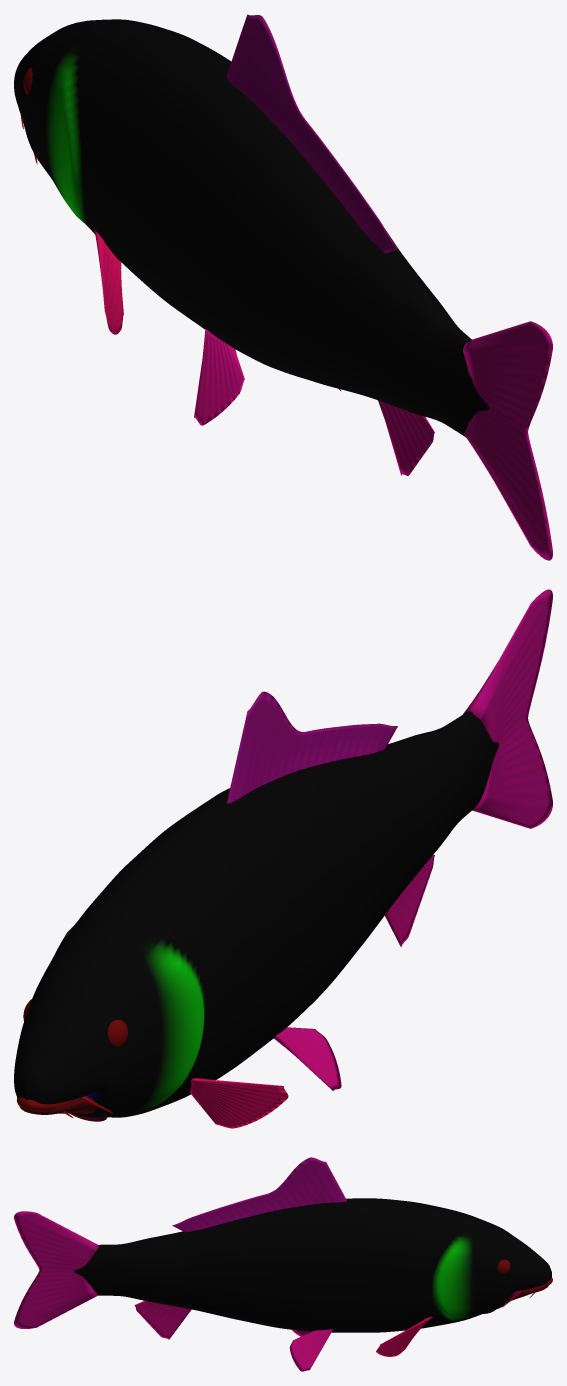
The model's file is carp.glb.
3 renders of one model, top to bottom at view 1: azimuth 30°, elevation 25°; view 2: azimuth 150°, elevation 25°; view 3: azimuth 270°, elevation 25°, orthographic. The views are drawn at different scales.
Visible parts, largest first — view 1: carp; view 2: carp; view 3: carp.
Boxes of the visible parts, box(x1,y1,x2,y2) form: carp: box(14, 14, 552, 560); carp: box(14, 589, 552, 1128); carp: box(14, 1157, 552, 1371).
Bounding box in the file's own units: 0.1365 × 0.279 × 0.692.
